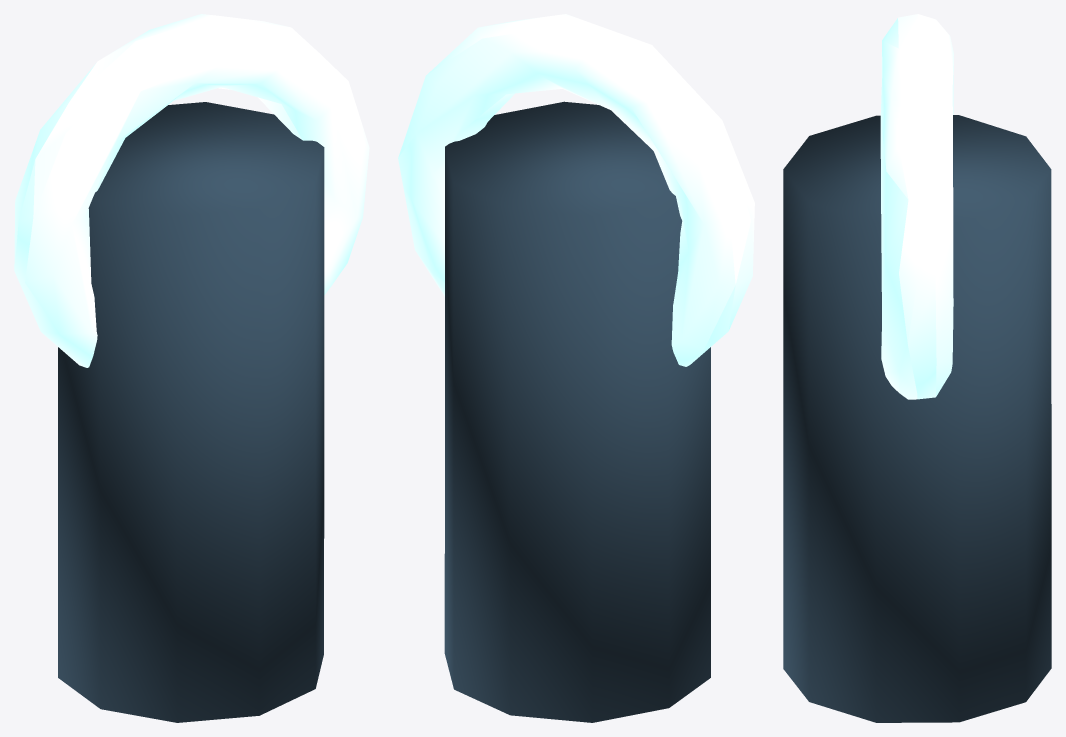
The model's file is SM_Rheinufer_Bollard_LOD3.fbx.
3 views of the same model, side by side, from view 1: azimuth 30°, elevation 25°; view 2: azimuth 150°, elevation 25°; view 3: azimuth 270°, elevation 25° (orthographic).
Visible parts, largest first — view 1: SM_Rheinufer_Bollard_LOD3; view 2: SM_Rheinufer_Bollard_LOD3; view 3: SM_Rheinufer_Bollard_LOD3.
Boxes of the visible parts, x1,y1,x2,y2 form: SM_Rheinufer_Bollard_LOD3: (14, 14, 369, 722); SM_Rheinufer_Bollard_LOD3: (398, 14, 754, 722); SM_Rheinufer_Bollard_LOD3: (783, 14, 1051, 722).
Bounding box in the file's own units: 0.6412 × 1.14 × 0.4348.
